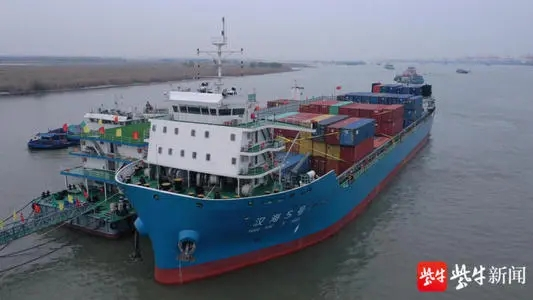Cargoship: (112, 55, 437, 264)
